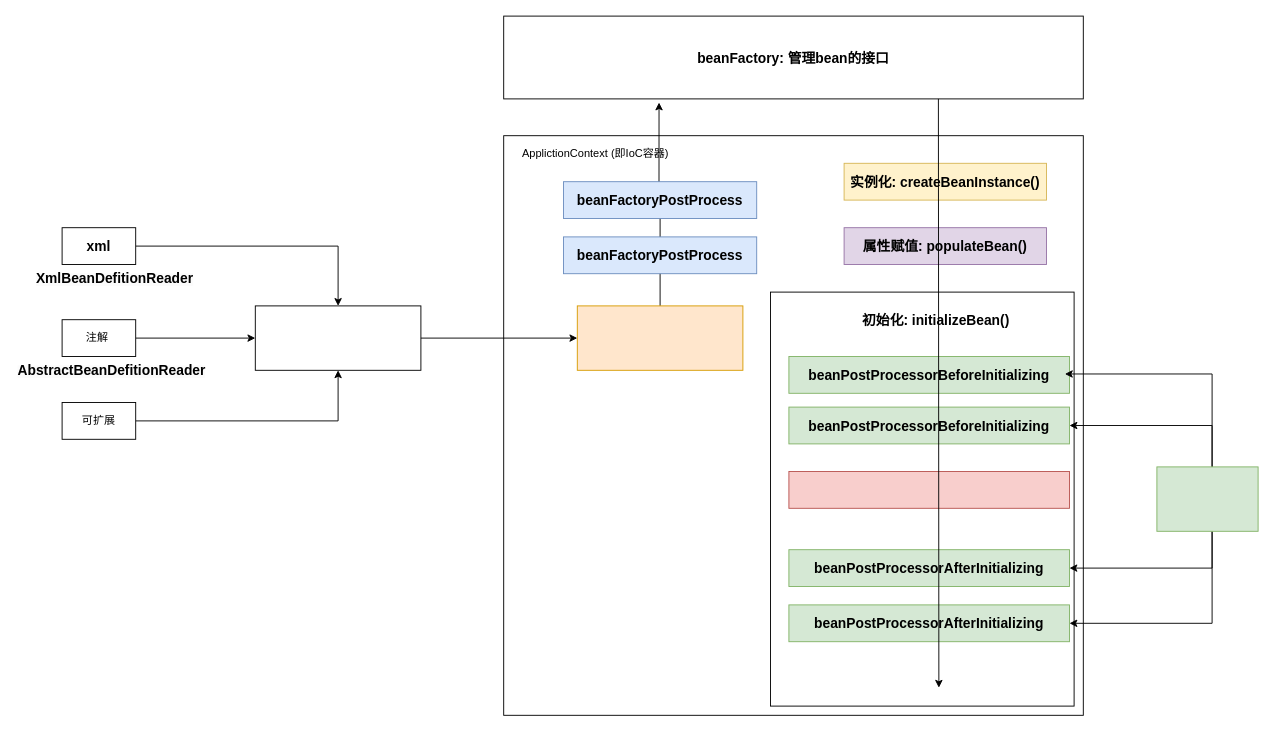
Some shapes in this 1274 by 731 pixel diagram are drawn without their labels. The shapes that lost their labels are listed below. From the top down, each one's centre as x and y in pixels, then its label:
the point at 337,337: beanDefitionReader
the point at 659,337: BeanDefinition
the point at 929,489: invokeInitMethod
the point at 1207,498: AOP
